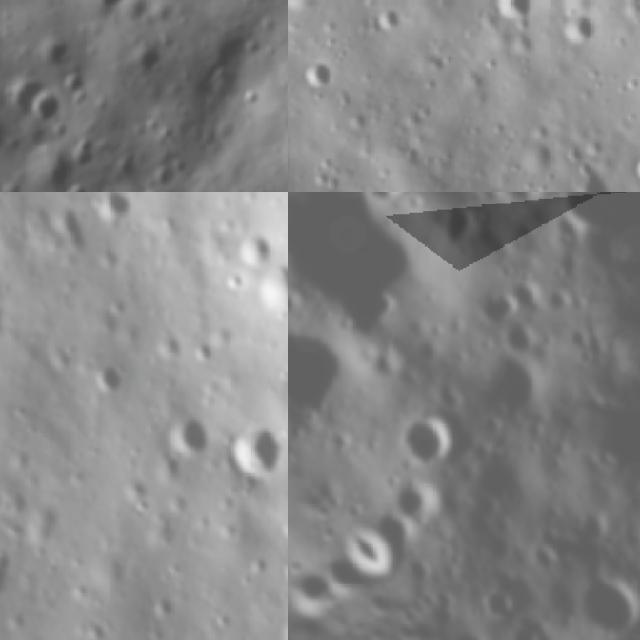crater: (288, 282, 398, 461), (379, 388, 480, 490), (462, 339, 558, 436), (338, 490, 428, 582), (554, 559, 640, 640), (461, 272, 533, 344), (383, 461, 454, 532), (425, 192, 491, 258), (452, 192, 566, 223), (469, 575, 527, 633), (228, 421, 282, 481), (517, 531, 571, 587), (163, 409, 216, 457), (616, 371, 640, 471), (48, 203, 93, 256), (249, 257, 288, 318), (27, 85, 72, 131), (578, 607, 640, 640), (0, 74, 42, 122), (234, 226, 276, 270), (497, 611, 558, 640), (564, 12, 612, 48), (567, 157, 616, 192), (353, 192, 416, 218), (299, 52, 342, 90), (88, 360, 125, 402), (91, 192, 134, 226), (80, 0, 138, 24), (110, 154, 144, 192), (116, 472, 151, 508), (68, 138, 106, 171), (145, 162, 182, 192), (150, 446, 182, 480), (375, 0, 404, 37), (148, 589, 178, 624), (2, 602, 31, 634), (241, 88, 267, 114), (67, 176, 104, 192), (246, 549, 267, 577), (85, 616, 108, 640), (628, 153, 640, 192), (444, 179, 479, 192)
